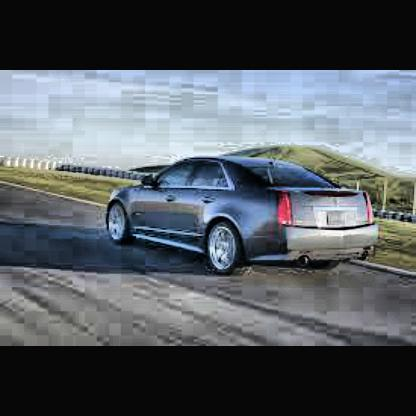Cadillac CTS-V Sedan 2012: (107, 158, 383, 283)
